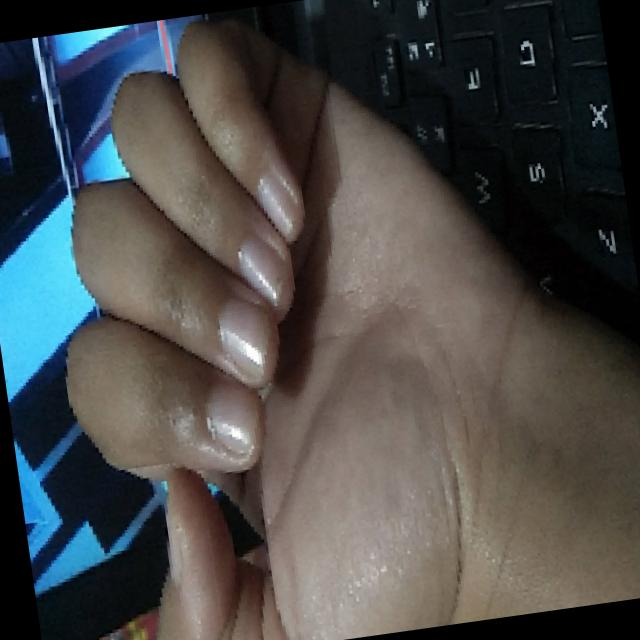Nail: (218, 297, 271, 378), (206, 381, 260, 454), (237, 236, 287, 305), (256, 174, 296, 239), (166, 502, 184, 583)
